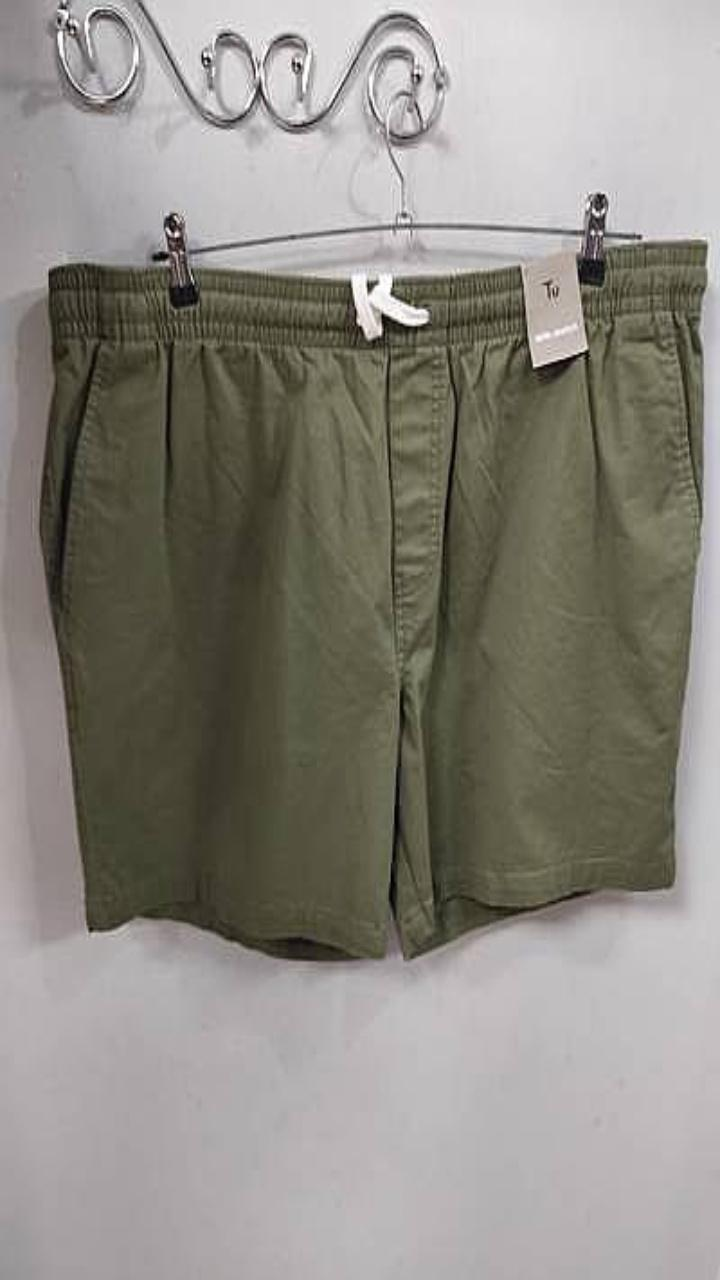Shorts: (40, 240, 706, 958)
